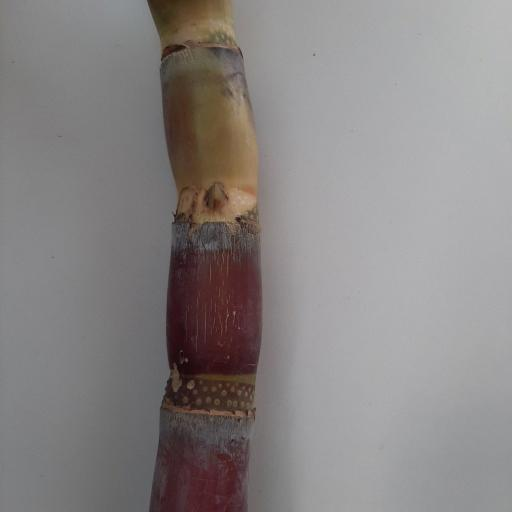Bud: (204, 181, 228, 218)
